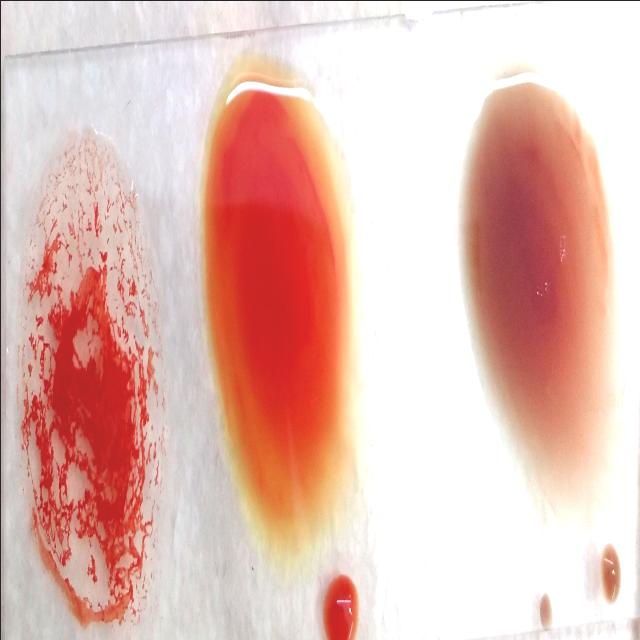D: (23, 150, 166, 632)
